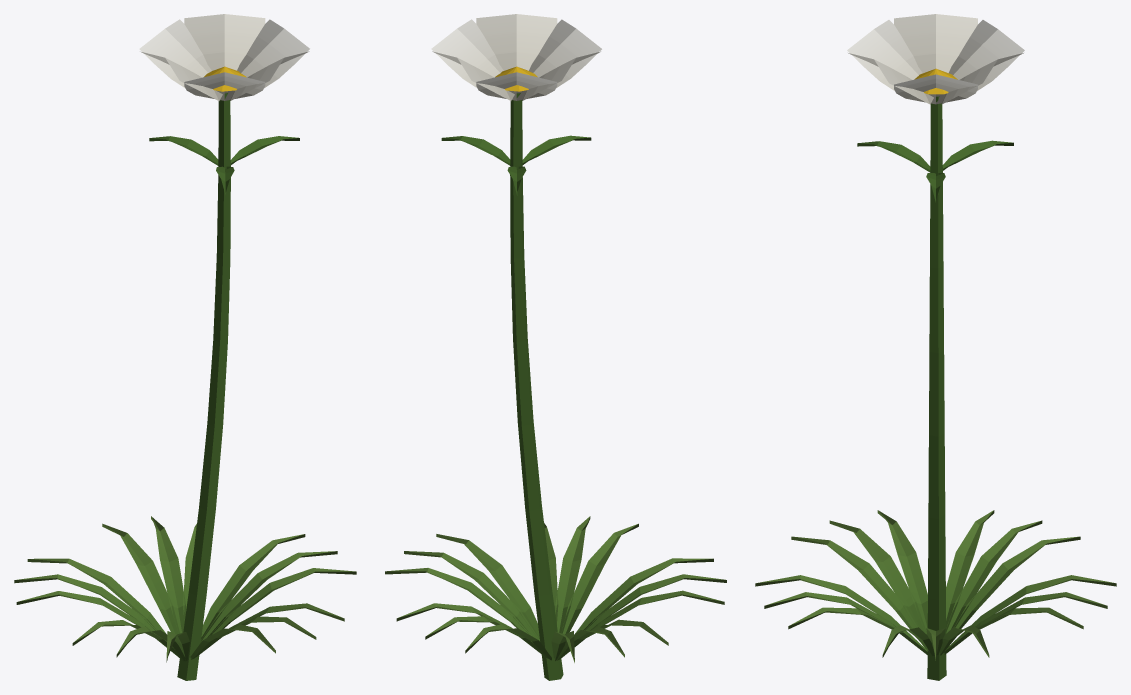
File: sasanka.glb
The picture shows the model from 3 angles, left to right: view 1: azimuth 30°, elevation 25°; view 2: azimuth 150°, elevation 25°; view 3: azimuth 270°, elevation 25°; orthographic projection. The views are drawn at different scales.
Visible parts, largest first — view 1: sasanka; view 2: sasanka; view 3: sasanka.
Part boxes in pixels (x1=…): sasanka: x1=14, y1=14, x2=356, y2=680; sasanka: x1=385, y1=14, x2=726, y2=680; sasanka: x1=755, y1=14, x2=1116, y2=680.
Bounding box in the file's own units: 0.1168 × 0.2388 × 0.12.
